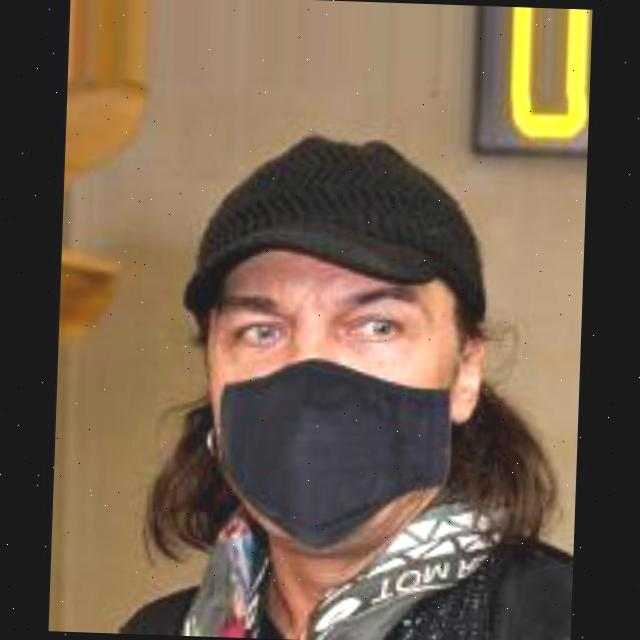suspicion: (178, 160, 467, 568)
